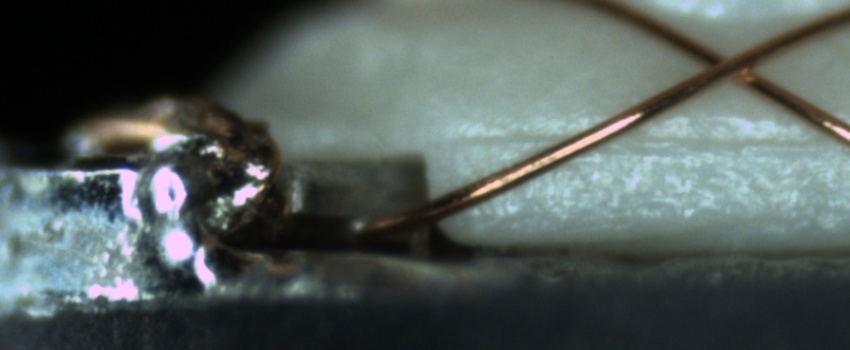CL: (681, 30, 783, 93)
DL: (459, 107, 849, 172)
TE: (59, 92, 192, 157)
